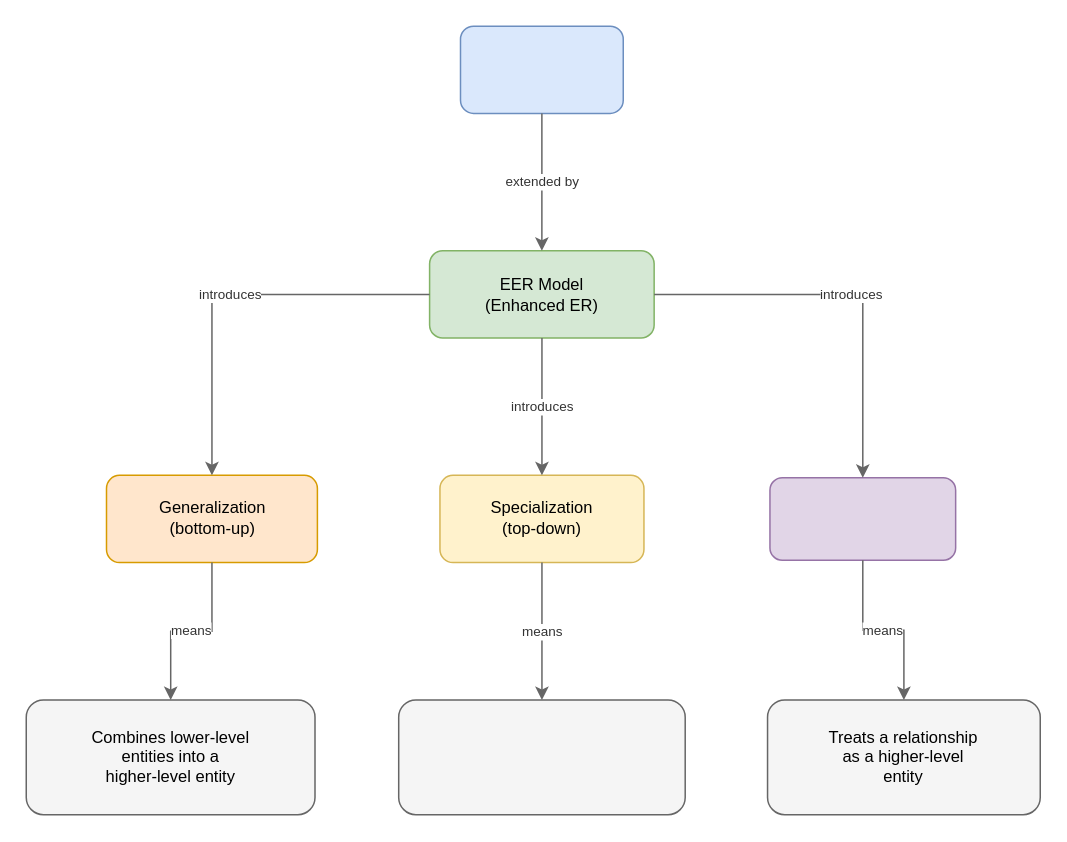
The diagram is 1067 pixels wide and 842 high, and some of its shapes have lost their labels. The centre of each missing label's shape, as x and y in pixels:
"Aggregation" belongs at point (862, 518).
"Divides a higher-level entity into sub-entities" belongs at point (541, 757).
"ER Model (basic)" belongs at point (541, 69).
